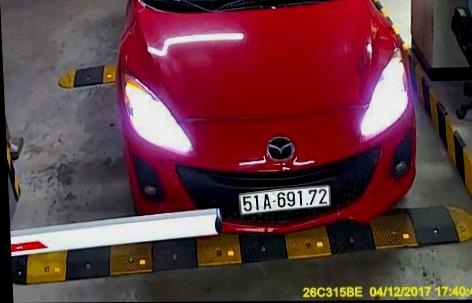License_Plate: (233, 187, 331, 211)
